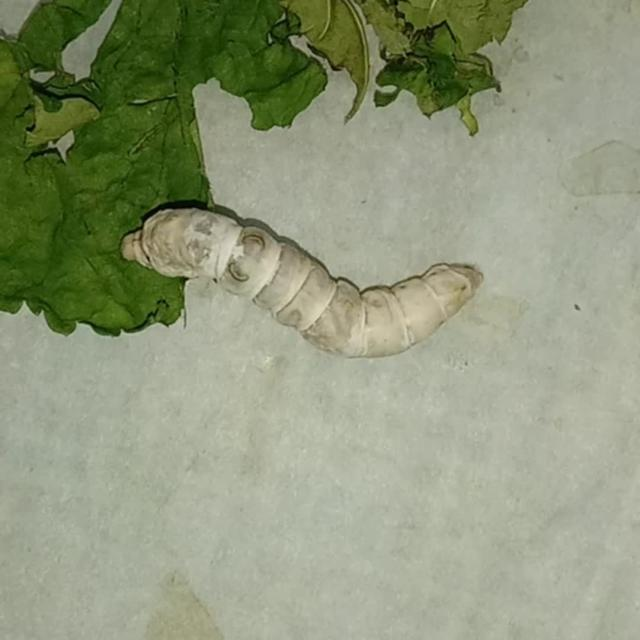Grasserie: (112, 190, 492, 368)
